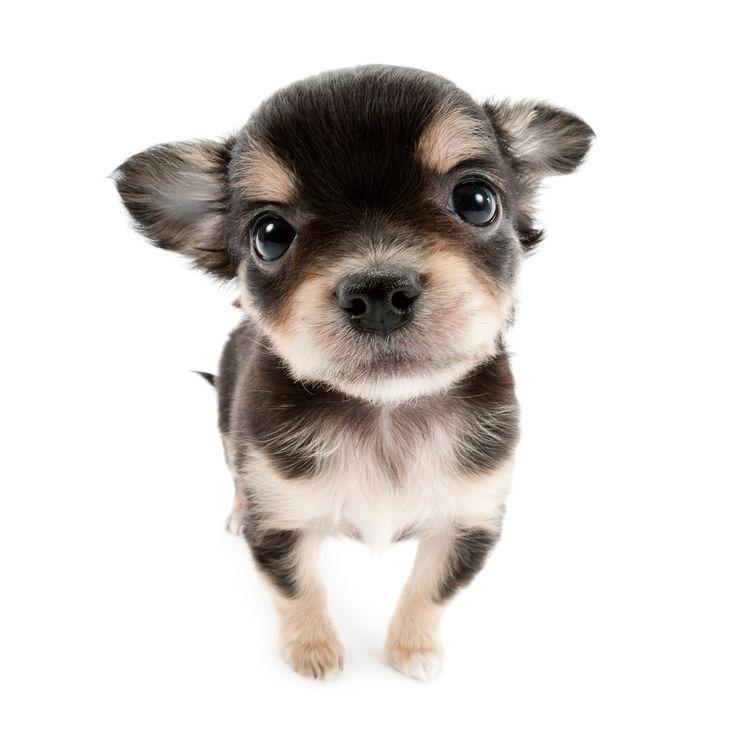puppy-dog: (109, 61, 599, 687)
